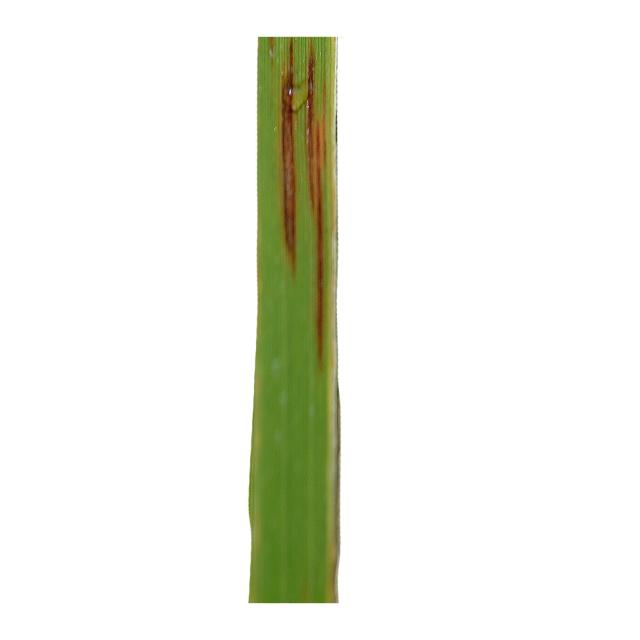Narrow brown: (180, 26, 448, 636)
